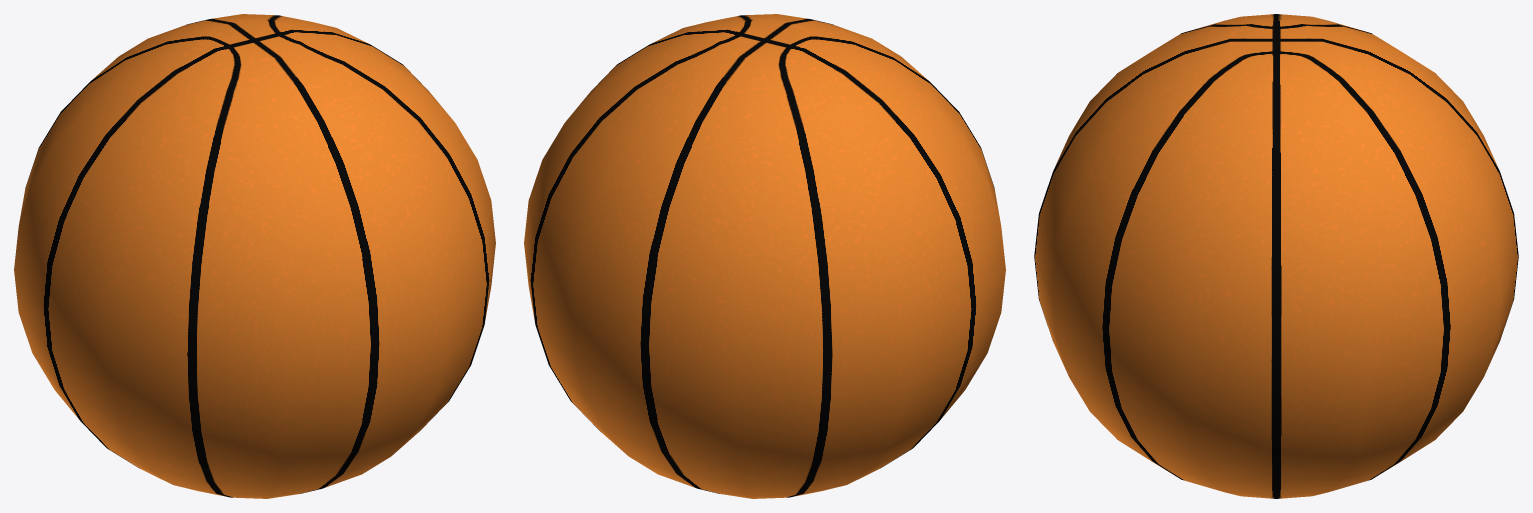
Rendered from BasketBall.fbx.
3 views of the same model, side by side, from view 1: azimuth 30°, elevation 25°; view 2: azimuth 150°, elevation 25°; view 3: azimuth 270°, elevation 25° (orthographic).
Visible parts, largest first — view 1: Sphere.002; view 2: Sphere.002; view 3: Sphere.002.
Boxes of the visible parts, left/top/right/bottom form: Sphere.002: left=14, top=14, right=495, bottom=498; Sphere.002: left=524, top=14, right=1005, bottom=498; Sphere.002: left=1034, top=14, right=1518, bottom=498.
Size of the model in its own units: 50.72 by 49.91 by 50.72.
1 material, 1 textured.
